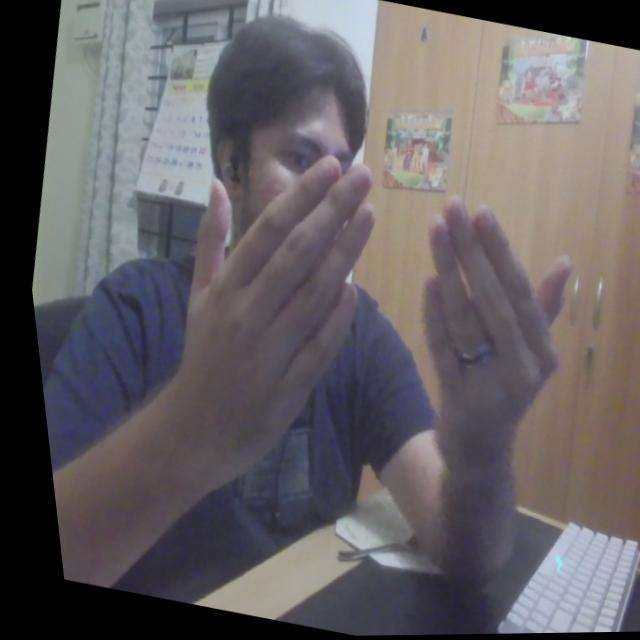thankyou: (116, 114, 613, 548)
